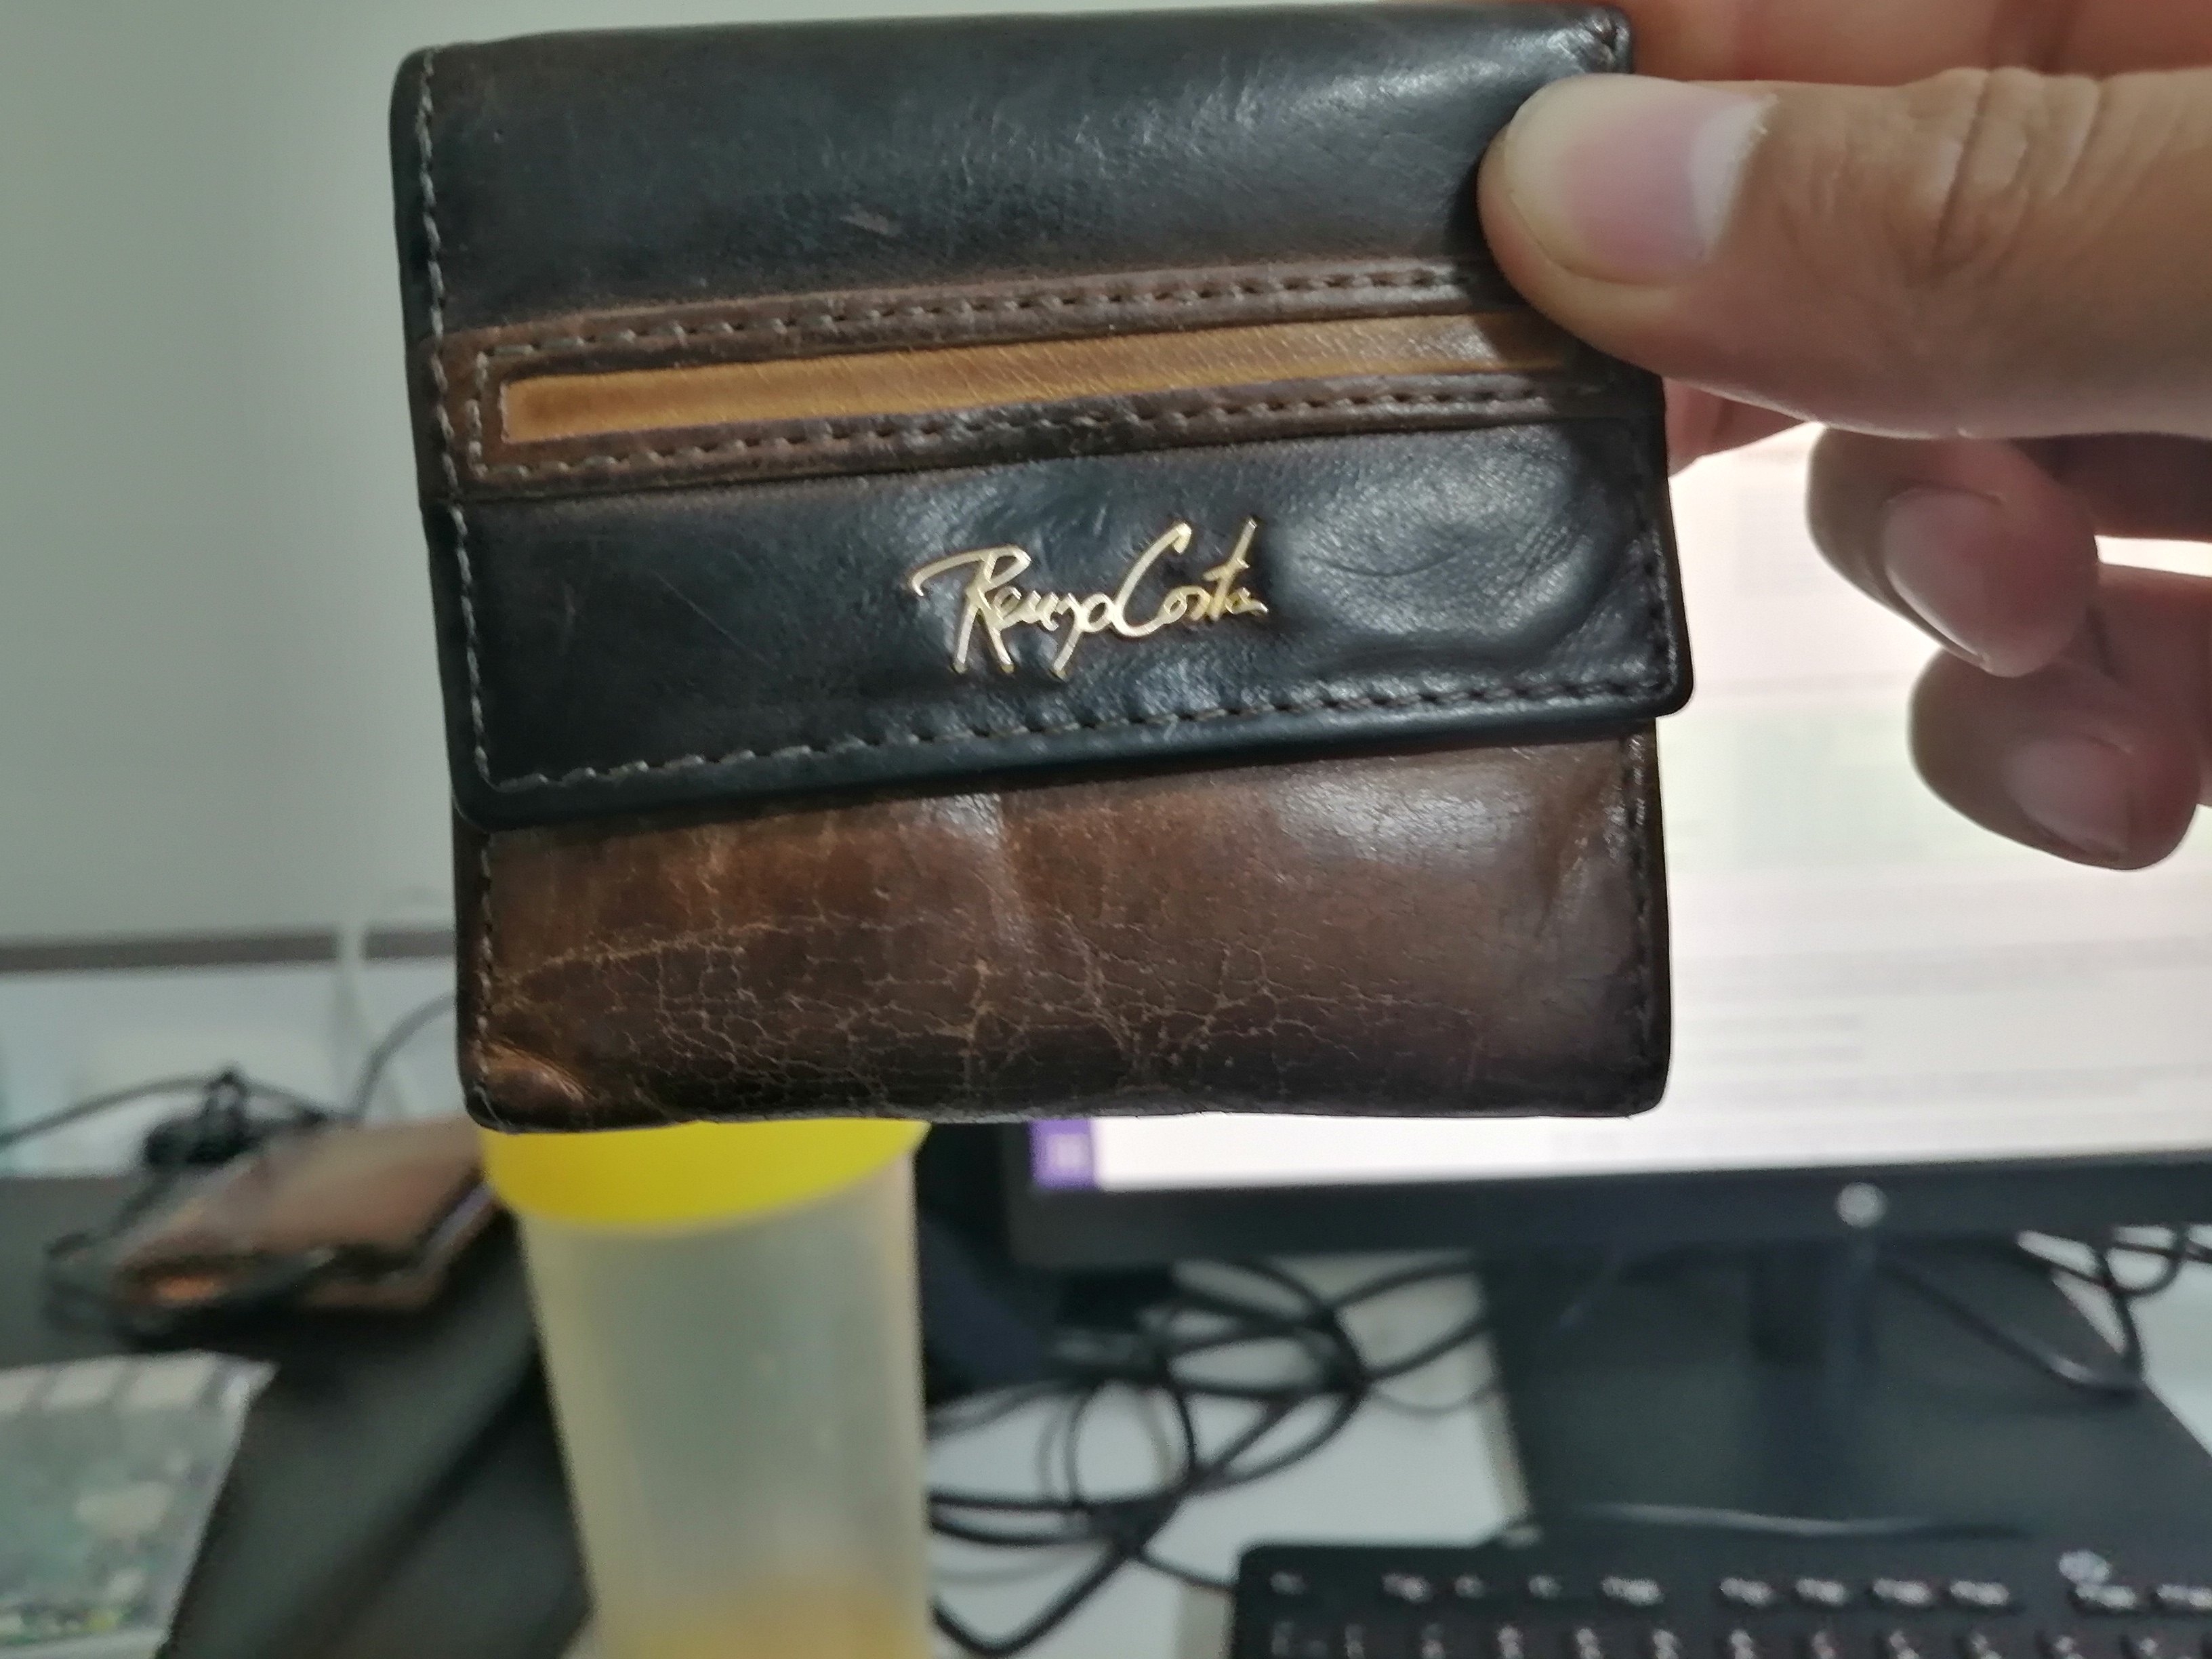monedero: (369, 0, 1719, 1147)
